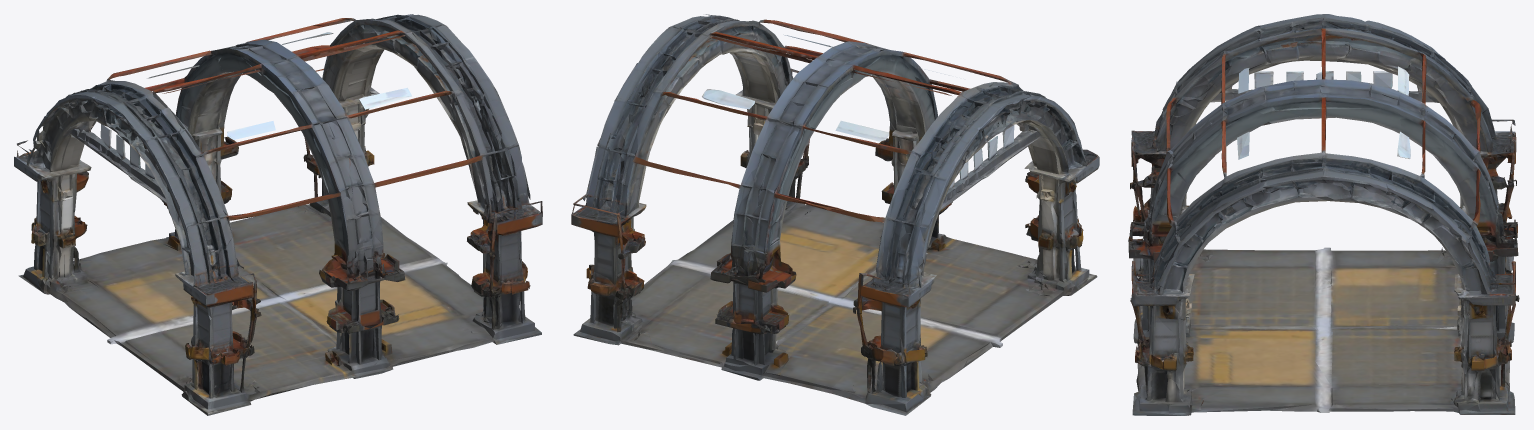
The model's file is outside-hangar.glb.
3 renders of one model, left to right at view 1: azimuth 30°, elevation 25°; view 2: azimuth 150°, elevation 25°; view 3: azimuth 270°, elevation 25°, orthographic.
Visible parts, largest first — view 1: output_unwrapped; view 2: output_unwrapped; view 3: output_unwrapped.
Boxes of the visible parts, <box> form: output_unwrapped: <box>14,14,542,415</box>; output_unwrapped: <box>571,14,1099,415</box>; output_unwrapped: <box>1128,14,1519,415</box>.
Size of the model in its own units: 2 by 1.39 by 2.
1 material, 1 textured.
